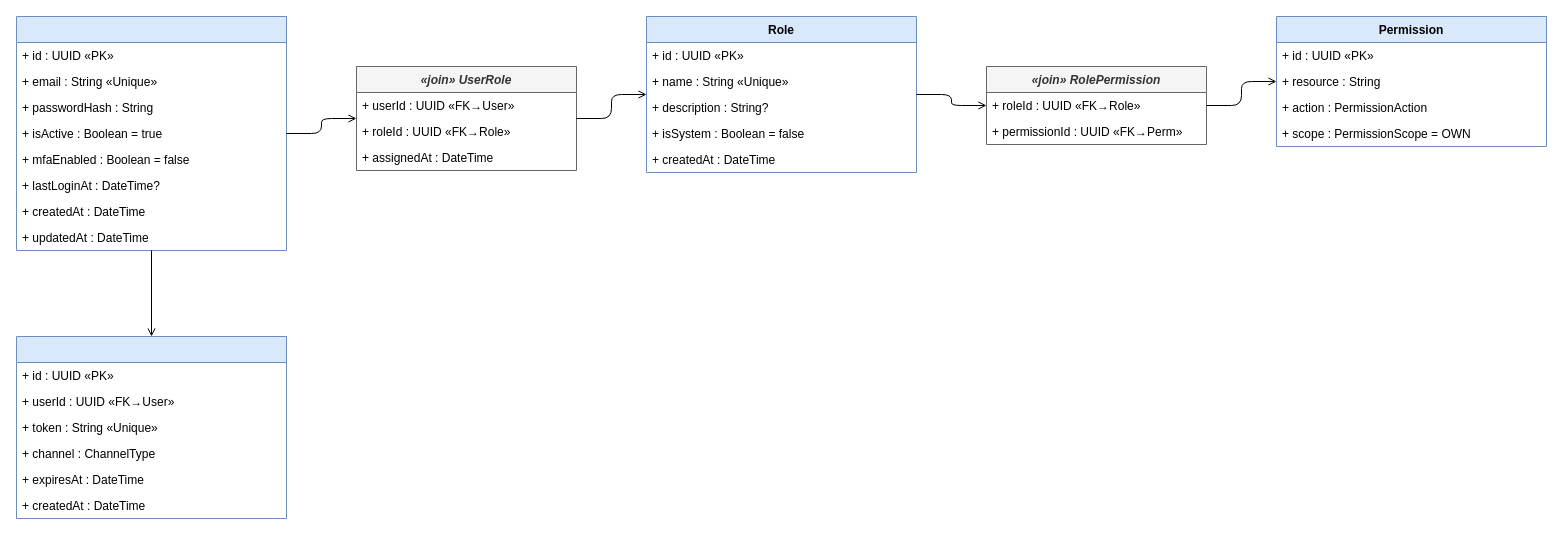
Image size: 1563x535. Some labels were removed from this diagram. Here are the shapes that lost their labels. From the top down, the box of each, then its label:
(16, 16, 286, 250): User
(16, 336, 286, 518): Session
